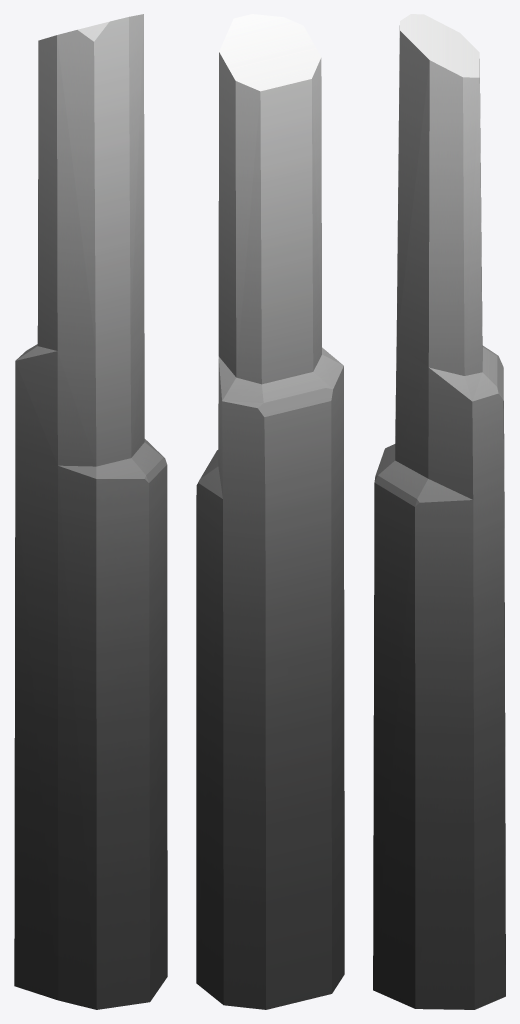
The model's file is CrystalCube_D.fbx.
3 renders of one model, left to right at view 1: azimuth 30°, elevation 25°; view 2: azimuth 210°, elevation 25°; view 3: azimuth 270°, elevation 25°, orthographic. The views are drawn at different scales.
Parts seen in each view (by area): view 1: CrystalCube_D; view 2: CrystalCube_D; view 3: CrystalCube_D.
Boxes of the visible parts, left/top/right/bottom form: CrystalCube_D: left=14, top=14, right=167, bottom=1009; CrystalCube_D: left=196, top=14, right=344, bottom=1009; CrystalCube_D: left=373, top=14, right=505, bottom=1009.
Bounding box in the file's own units: 72.14 × 530 × 66.71.
1 material, 1 textured.
